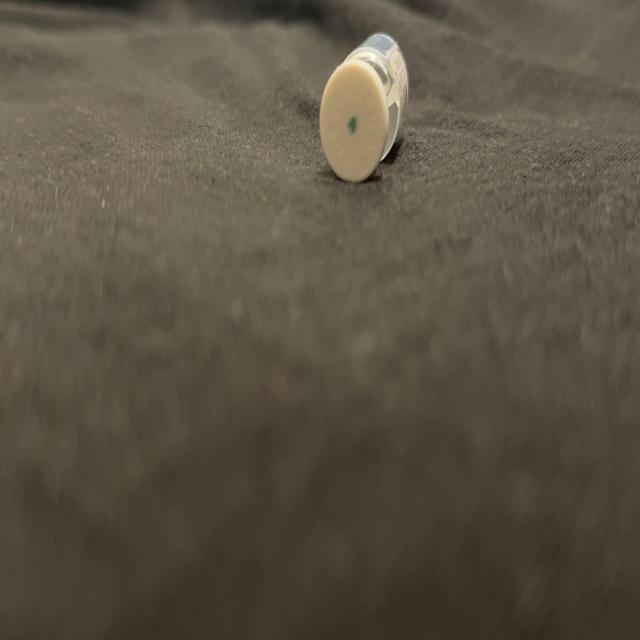fentanl_citrat: (321, 34, 407, 180)
